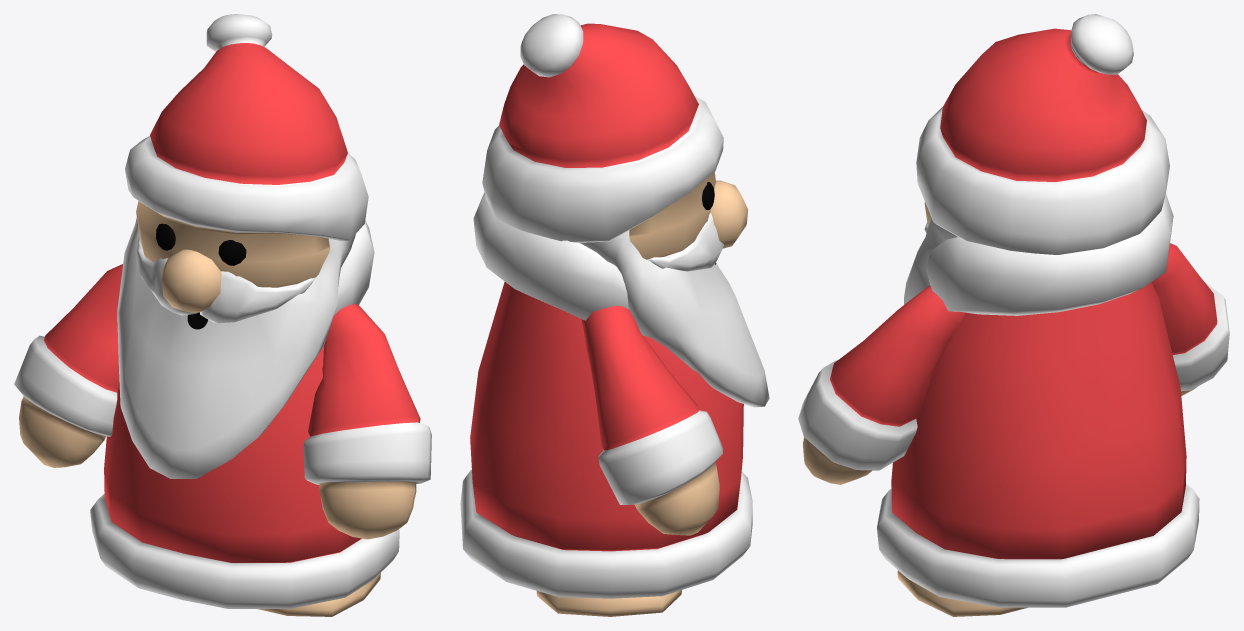
The model's file is ToyObject_015.fbx.
The picture shows the model from 3 angles, left to right: view 1: azimuth 30°, elevation 25°; view 2: azimuth 150°, elevation 25°; view 3: azimuth 270°, elevation 25°; orthographic projection. The views are drawn at different scales.
Parts seen in each view (by area): view 1: object-1.014; view 2: object-1.014; view 3: object-1.014.
Boxes of the visible parts, x1,y1,x2,y2 form: object-1.014: (14,14,431,616); object-1.014: (460,14,769,616); object-1.014: (798,14,1229,616).
Size of the model in its own units: 0.0965 by 0.1718 by 0.1199.
